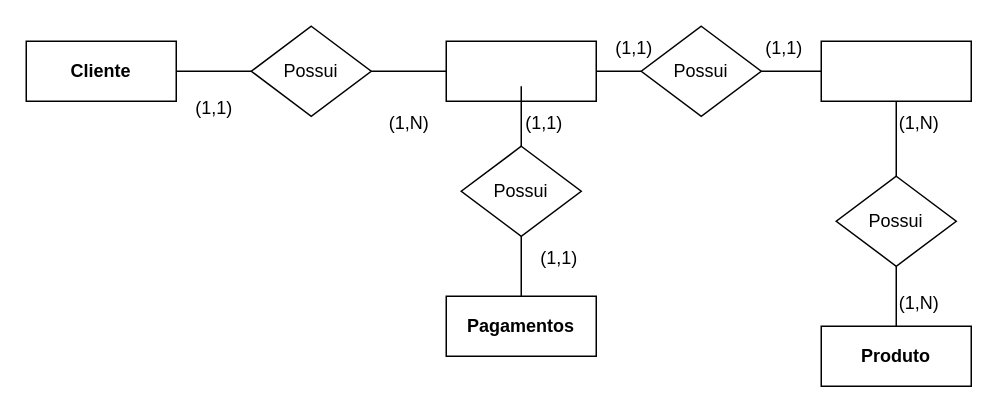
This 998x413 diagram has some shape labels left out. The shapes that lost their labels are listed below. From the top down, each one's centre as x and y in pixels, then its label:
At point (520, 70): "Pedido".
At point (895, 70): "ItemPedido".
